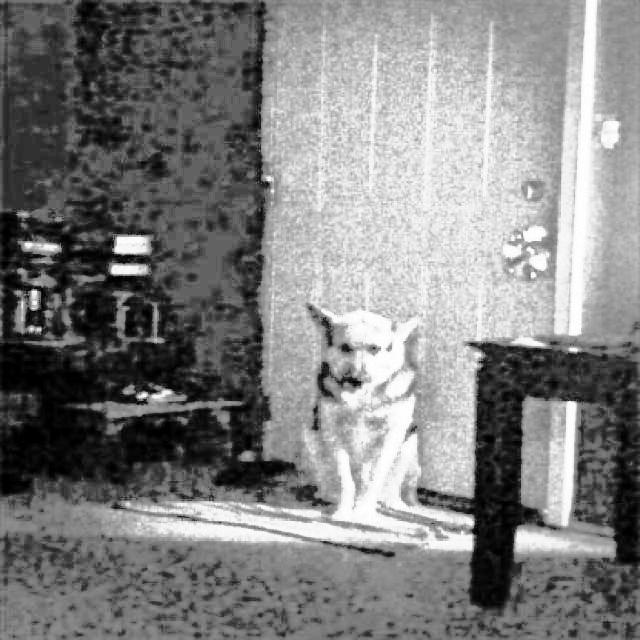Dog: (300, 297, 428, 530)
